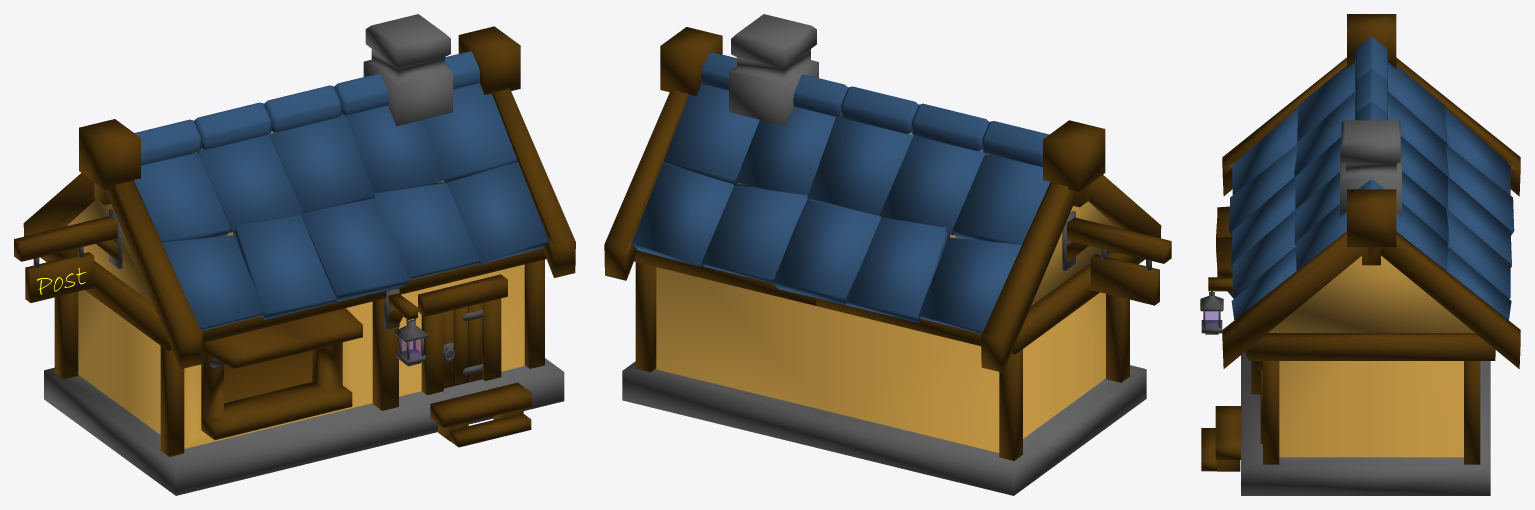
The model's file is PostHut.glb.
The picture shows the model from 3 angles, left to right: view 1: azimuth 30°, elevation 25°; view 2: azimuth 150°, elevation 25°; view 3: azimuth 270°, elevation 25°; orthographic projection. The views are drawn at different scales.
Visible parts, largest first — view 1: Hut; view 2: Hut; view 3: Hut.
Boxes of the visible parts, x1,y1,x2,y2 form: Hut: (14, 14, 575, 495); Hut: (604, 14, 1171, 495); Hut: (1200, 14, 1520, 495).
Bounding box in the file's own units: 16.71 × 11.17 × 9.99.
